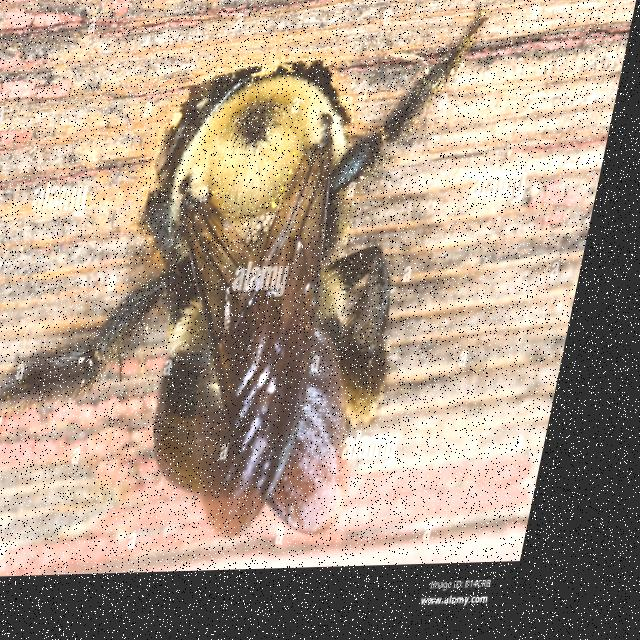Xylocopa: (0, 23, 504, 557)
